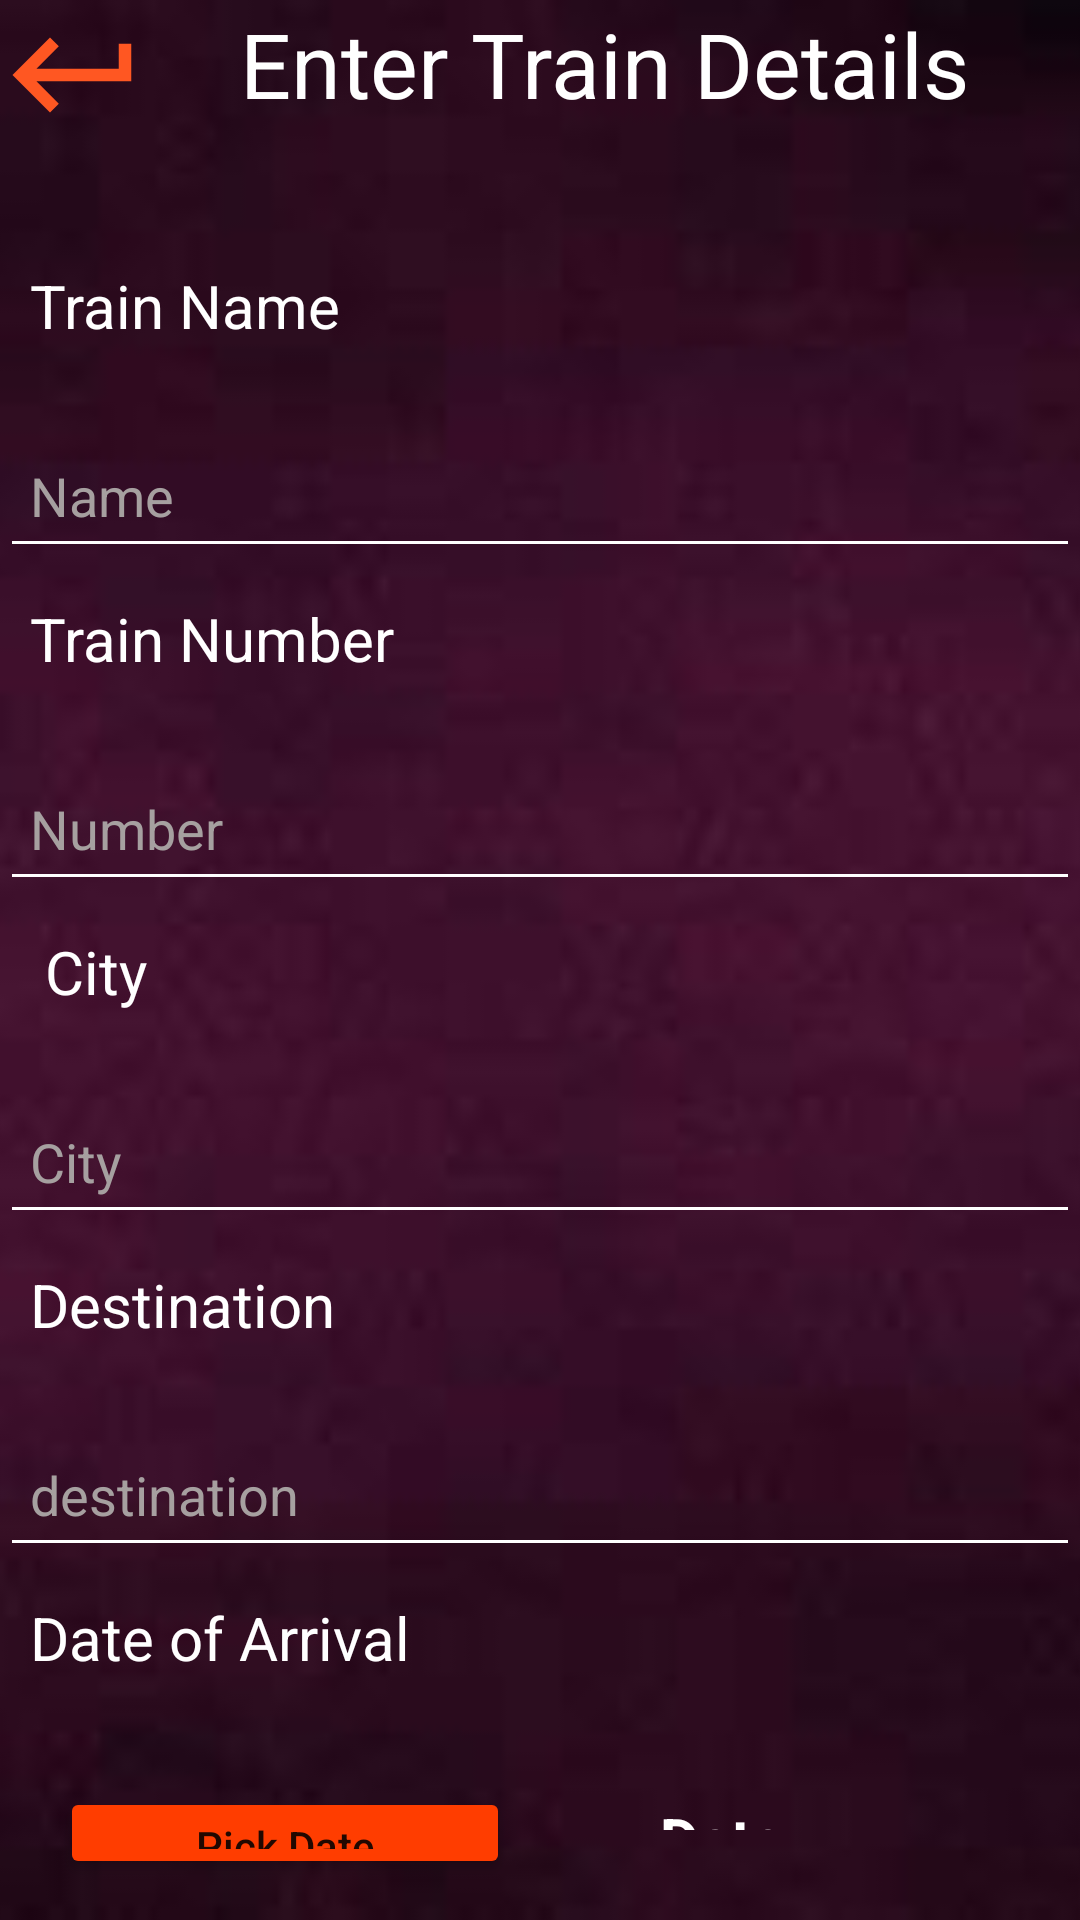

Named icons in this screenshot (1080 x 1920) and their centers, [x,y]:
keyboard return: [72,75]
